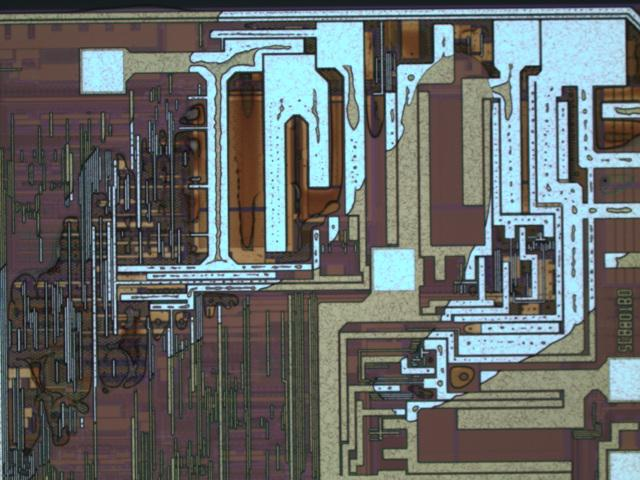COATING BAD: (1, 2, 640, 480)
